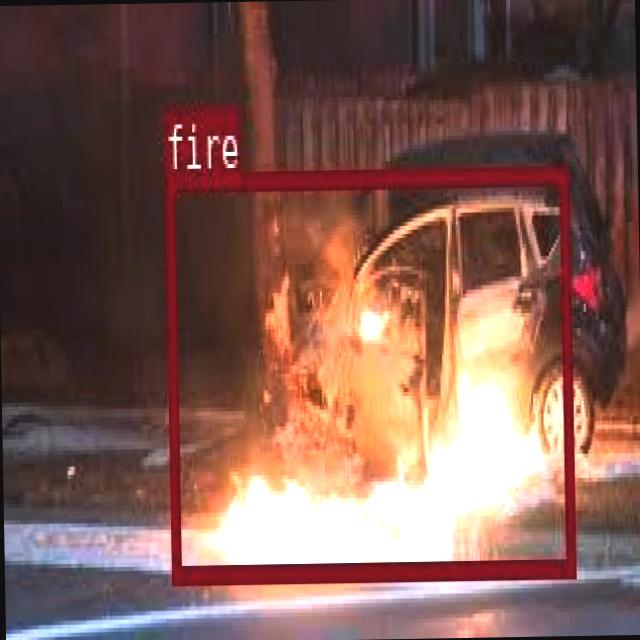fire: (163, 162, 574, 579)
